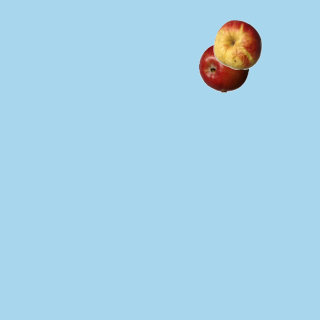Apple Braeburn: (198, 42, 248, 92)
Apple Red Yellow 1: (212, 19, 262, 69)
